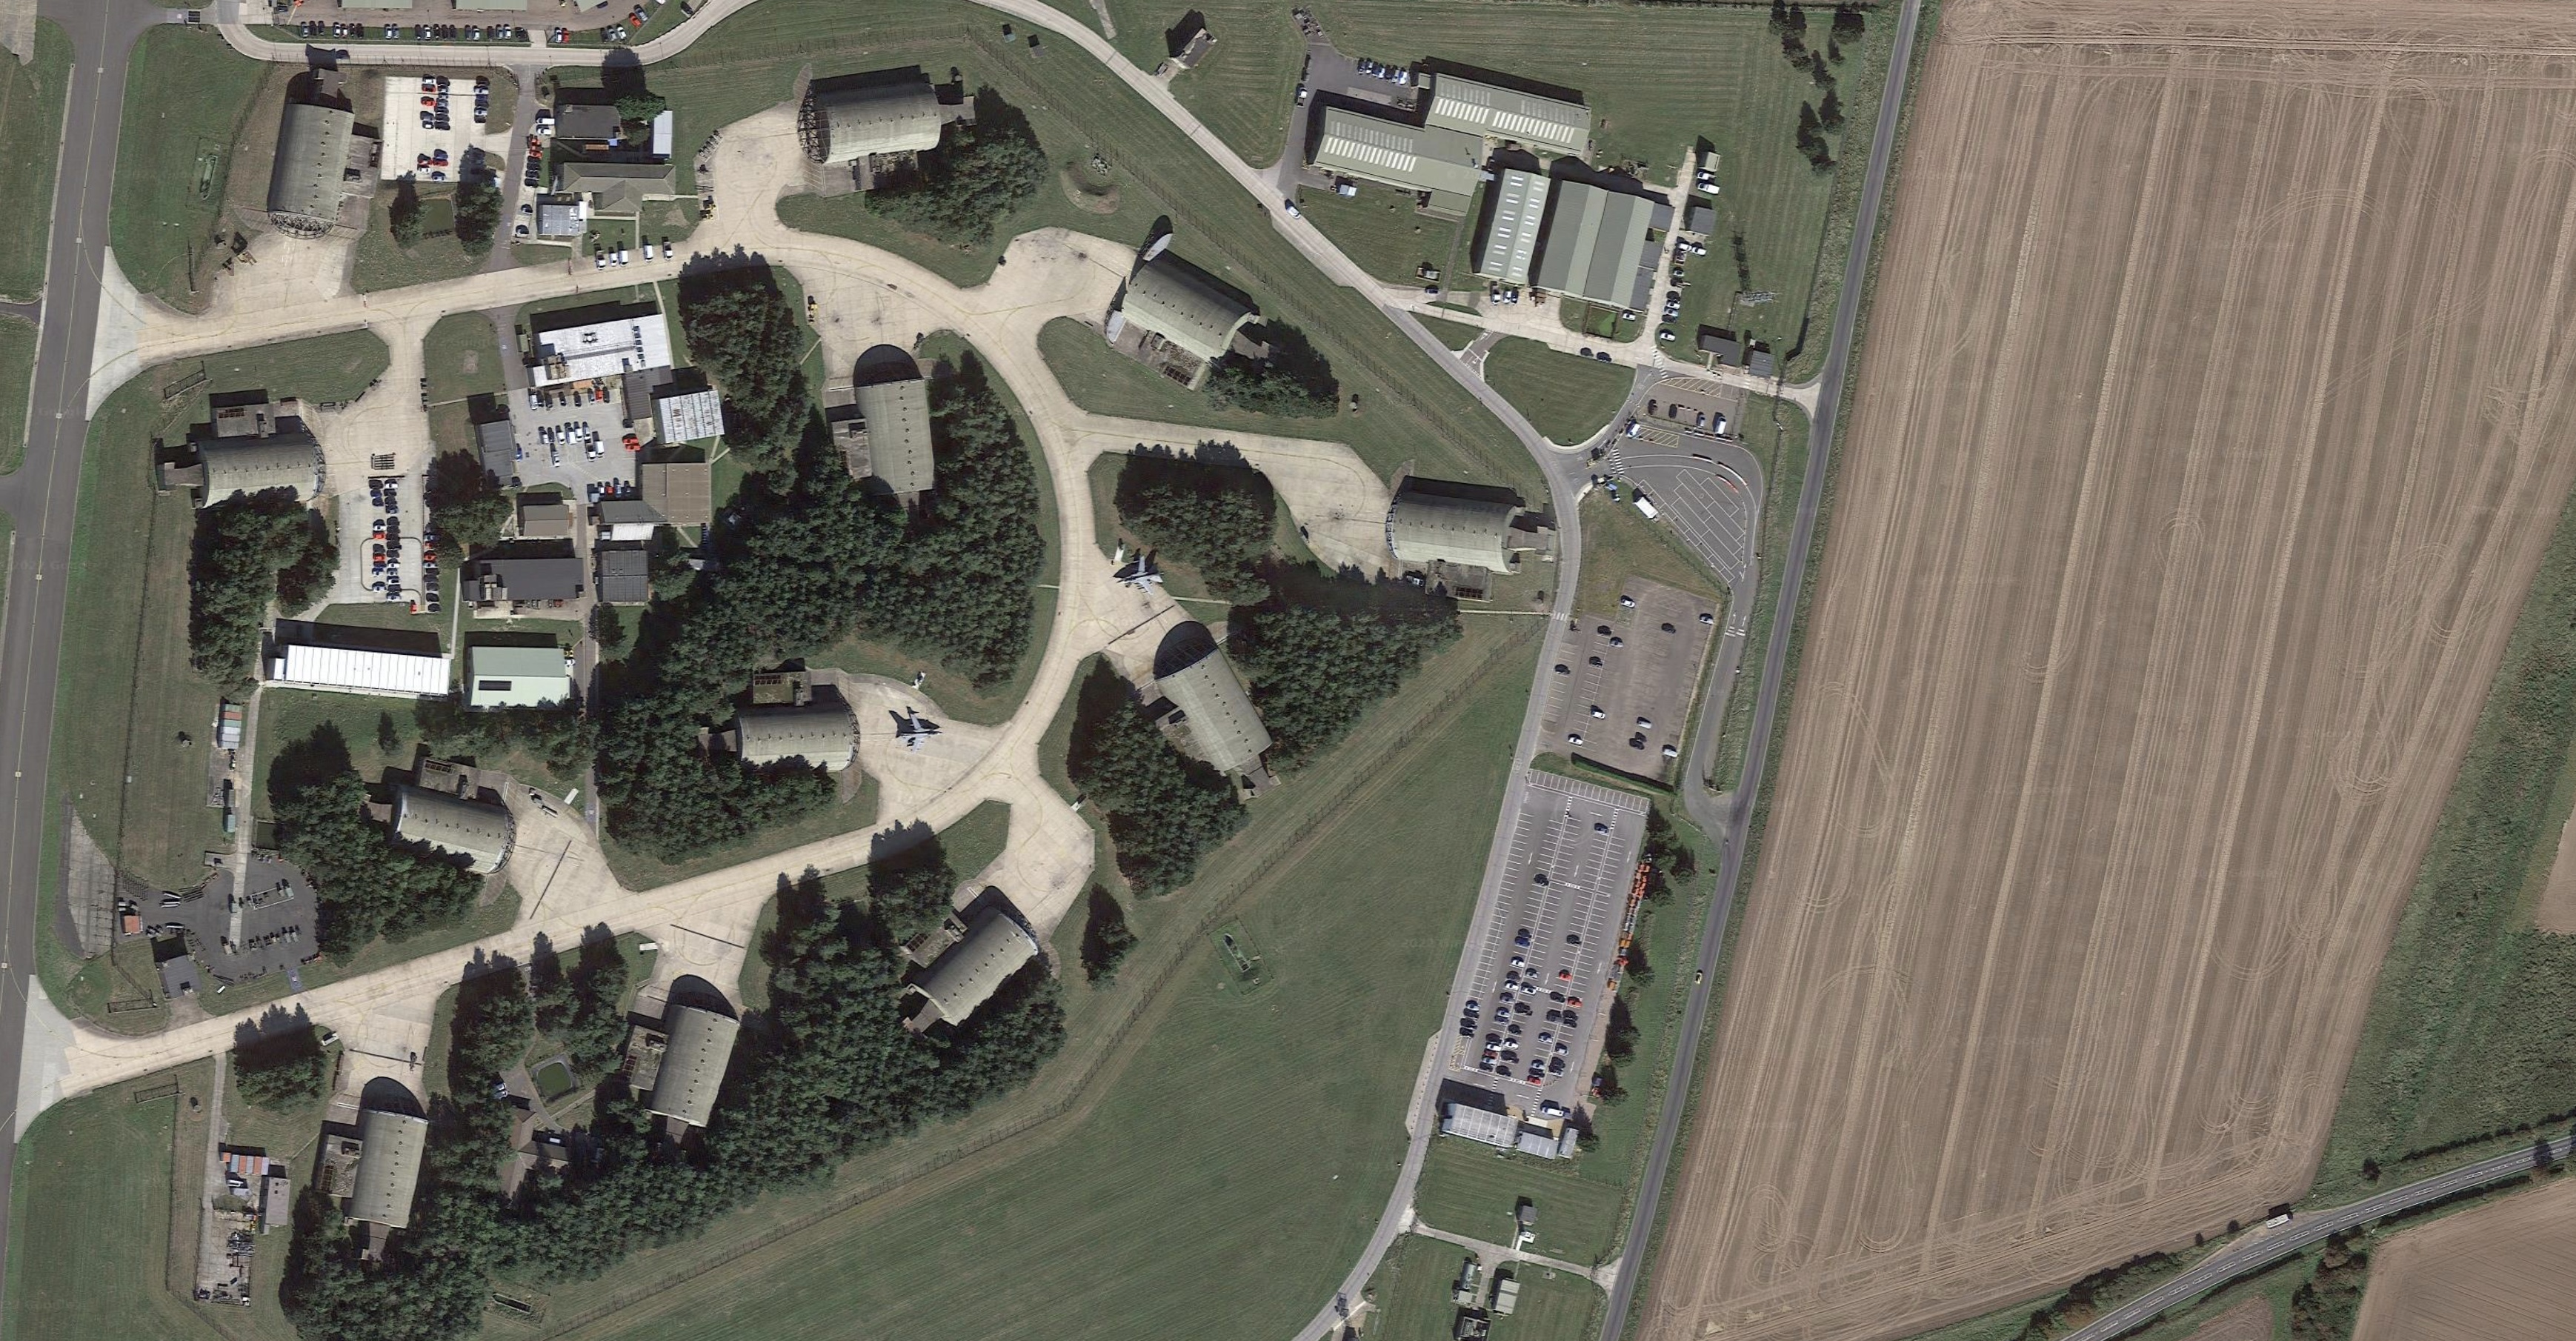Tornado: (1114, 555, 1165, 595), (898, 714, 944, 755)
